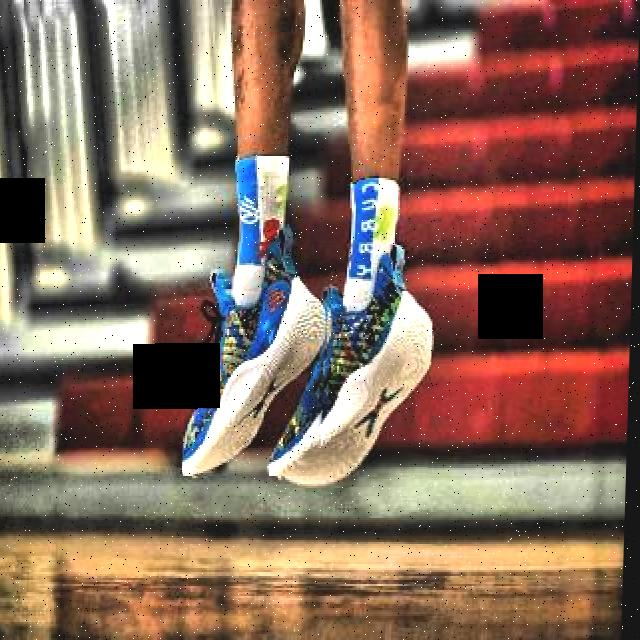shoe: (277, 244, 436, 488), (185, 224, 335, 476)
